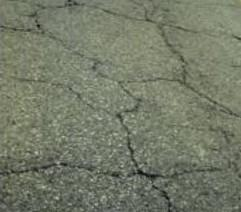alligator-crack: (2, 0, 241, 209)
